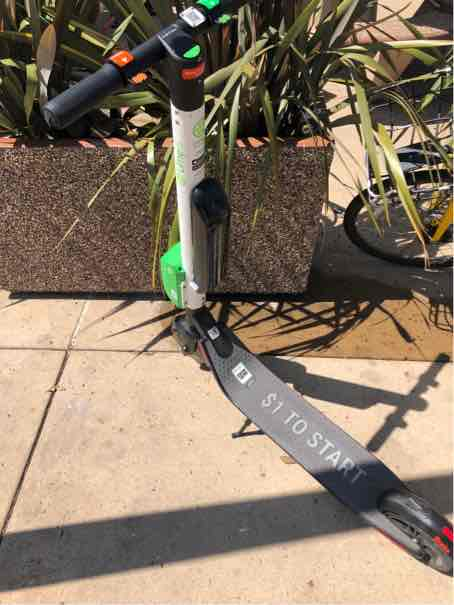scooter: (49, 6, 450, 595)
